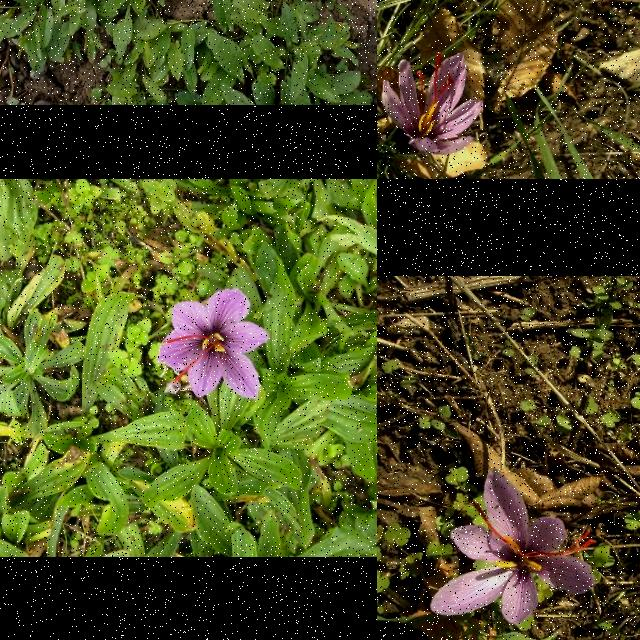flower: (430, 466, 592, 626), (157, 288, 271, 402), (382, 54, 484, 156)
